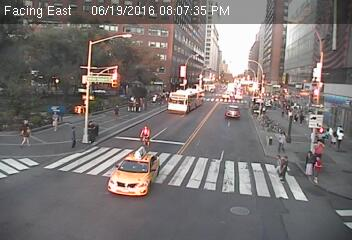neg: (278, 93, 298, 120), (226, 102, 245, 127), (65, 92, 82, 115), (178, 115, 194, 136), (134, 169, 149, 190), (83, 100, 98, 120), (304, 66, 314, 80)
pos: (276, 153, 298, 183), (299, 149, 320, 177), (16, 121, 37, 148), (273, 129, 292, 154), (63, 122, 82, 146), (331, 128, 349, 151), (110, 101, 126, 122)
